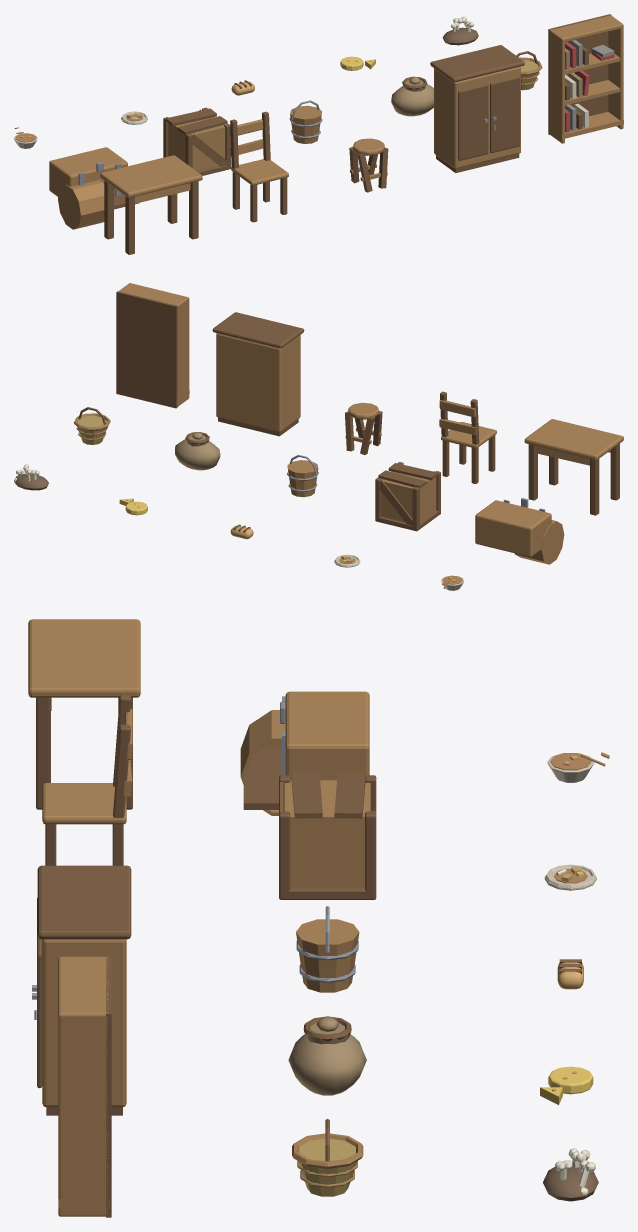
The model's file is Assets 2.glb.
The picture shows the model from 3 angles, top to bottom: view 1: azimuth 30°, elevation 25°; view 2: azimuth 150°, elevation 25°; view 3: azimuth 270°, elevation 25°; orthographic projection. The views are drawn at different scales.
Parts seen in each view (by area): view 1: Cupboard.001, Bookshelf.001, Table.001, Crate.001, Chair.001, Chest_Base, Chest_Lid.001, Stool.001, Sack.001, Bucket.001, BonePile.001, Basket.001 (+1 smaller); view 2: Cupboard.001, Bookshelf.001, Table.001, Crate.001, Chest_Base, Chair.001, Stool.001, Sack.001, Bucket.001, Basket.001, Chest_Lid.001, BonePile.001; view 3: Cupboard.001, Bookshelf.001, Crate.001, Table.001, Chest_Base, Chair.001, Sack.001, Bucket.001, Chest_Lid.001, Basket.001, BonePile.001, Cheese.001 (+2 smaller).
Boxes of the visible parts, x1,y1,x2,y2 form: Cupboard.001: (430,45,524,172); Bookshelf.001: (548,14,623,143); Table.001: (100,155,202,254); Crate.001: (163,107,231,175); Chair.001: (229,111,288,222); Chest_Base: (49,147,127,196); Chest_Lid.001: (58,180,139,229); Stool.001: (349,138,388,192); Sack.001: (391,76,433,116); Bucket.001: (289,100,322,143); BonePile.001: (442,16,478,45); Basket.001: (516,51,542,90); Cupboard.001: (212,312,304,436); Bookshelf.001: (116,283,189,408); Table.001: (524,419,623,515); Crate.001: (375,462,440,531); Chest_Base: (475,498,551,556); Chair.001: (439,391,496,483); Stool.001: (345,402,382,454); Sack.001: (175,432,220,470); Bucket.001: (287,455,318,497); Basket.001: (74,407,110,444); Chest_Lid.001: (514,520,564,564); BonePile.001: (14,464,48,490); Cupboard.001: (32,865,131,1115); Bookshelf.001: (58,955,111,1217); Crate.001: (279,772,376,899); Table.001: (28,619,140,809); Chest_Base: (280,691,369,780); Chair.001: (42,694,132,865); Sack.001: (288,1016,366,1095); Bucket.001: (296,906,359,992); Chest_Lid.001: (240,710,285,815); Basket.001: (292,1119,363,1196); BonePile.001: (543,1148,598,1201); Cheese.001: (540,1066,593,1104).
Size of the model in its own units: 6.02 by 1.43 by 3.11.
